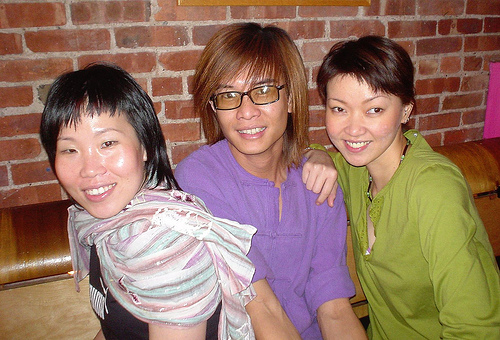without_mask: (32, 78, 168, 214), (197, 39, 310, 169), (318, 65, 427, 171)
